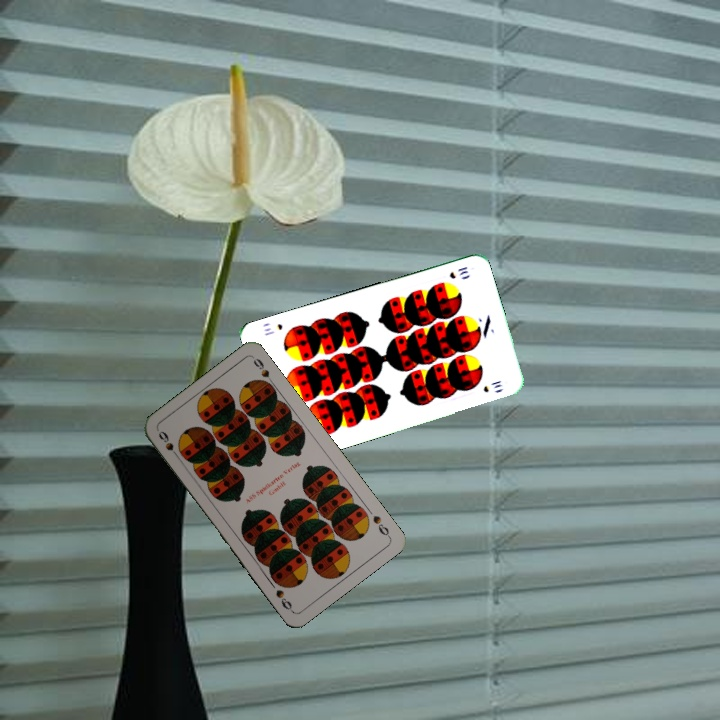S10: (445, 263, 471, 281)
S9: (154, 427, 183, 462), (369, 511, 393, 540)
